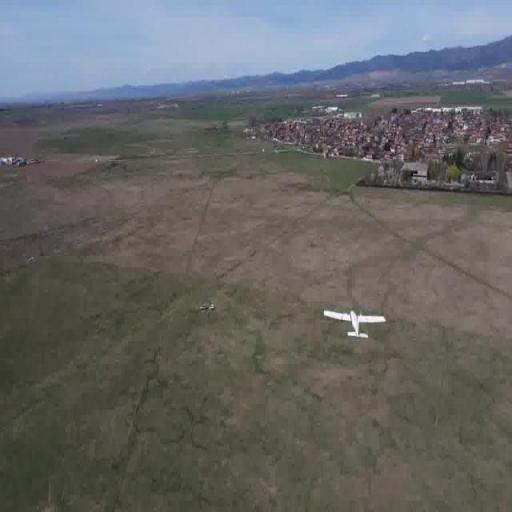uav: (322, 308, 392, 346)
